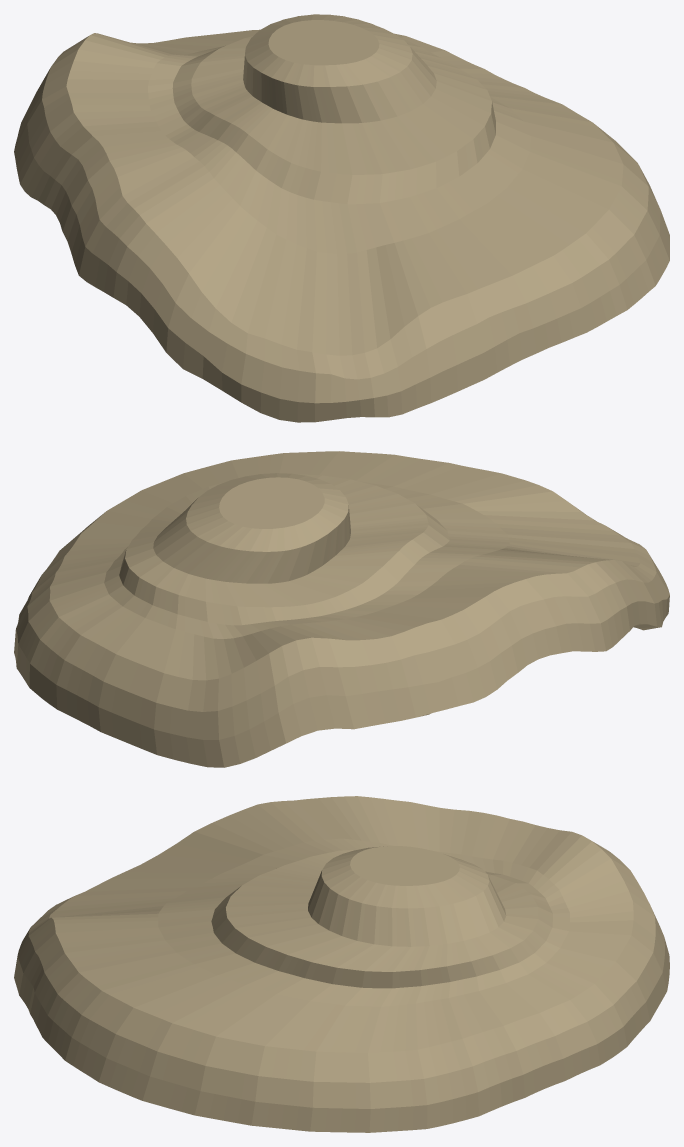
Rendered from choros.fbx.
3 views of the same model, one above another, from view 1: azimuth 30°, elevation 25°; view 2: azimuth 150°, elevation 25°; view 3: azimuth 270°, elevation 25° (orthographic). The views are drawn at different scales.
Parts seen in each view (by area): view 1: Cylinder.002; view 2: Cylinder.002; view 3: Cylinder.002.
Boxes of the visible parts, x1,y1,x2,y2 form: Cylinder.002: [14, 14, 669, 422]; Cylinder.002: [14, 451, 669, 767]; Cylinder.002: [14, 796, 669, 1132].
Bounding box in the file's own units: 114 × 37.38 × 128.
